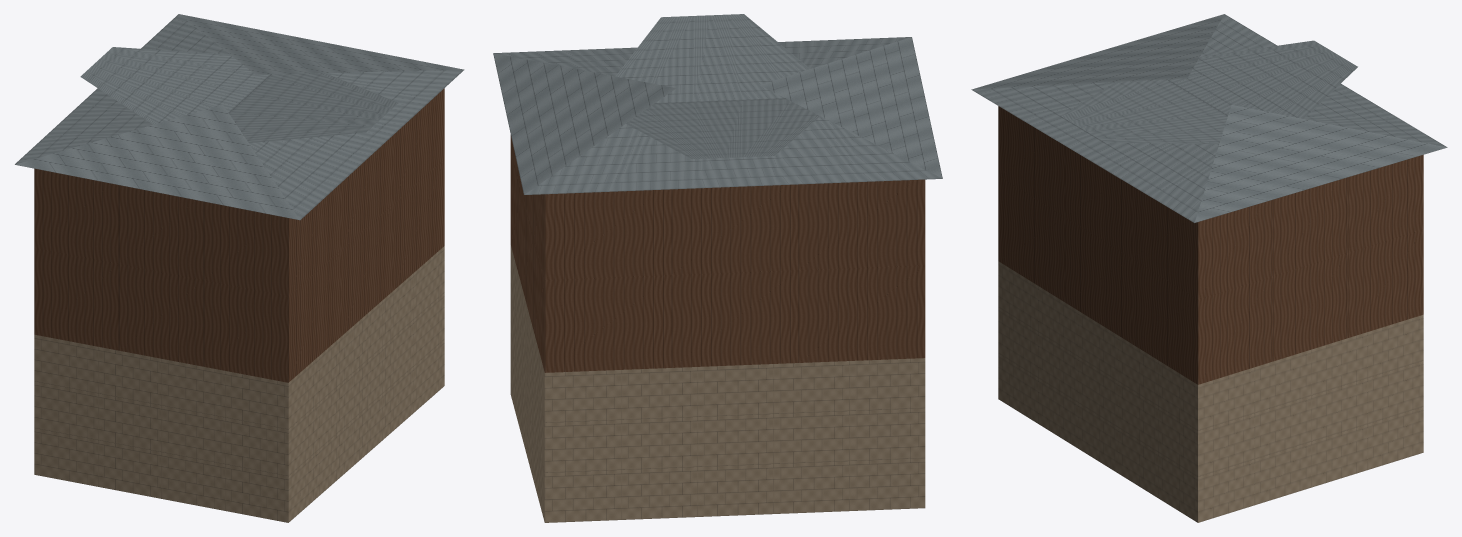
The model's file is bld_c22_44_379.gltf.
The picture shows the model from 3 angles, left to right: view 1: azimuth 30°, elevation 25°; view 2: azimuth 150°, elevation 25°; view 3: azimuth 270°, elevation 25°; orthographic projection. The views are drawn at different scales.
Visible parts, largest first — view 1: bld_c22_44_379; view 2: bld_c22_44_379; view 3: bld_c22_44_379.
Part boxes in pixels (bbox=[...]): bld_c22_44_379: bbox=[15, 14, 464, 522]; bld_c22_44_379: bbox=[493, 14, 942, 522]; bld_c22_44_379: bbox=[971, 14, 1447, 522].
Size of the model in its own units: 16.57 by 12.4 by 15.96.
Materials: 3 (3 with a texture image).
